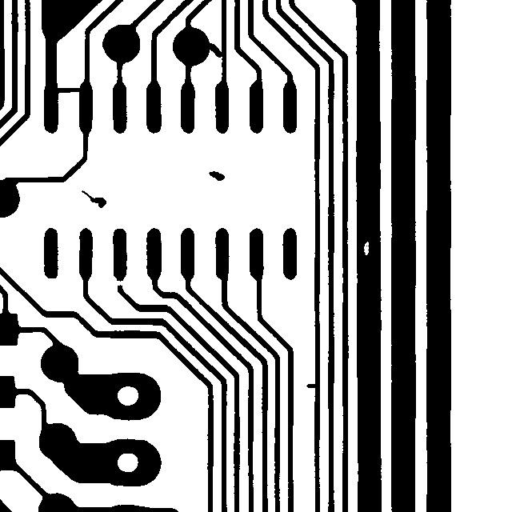copper: (74, 182, 114, 215), (201, 163, 232, 188)
open: (106, 273, 131, 293)
pin-hole: (356, 234, 376, 262)
short: (198, 35, 230, 65), (48, 80, 88, 101)
spur: (298, 376, 326, 395)
